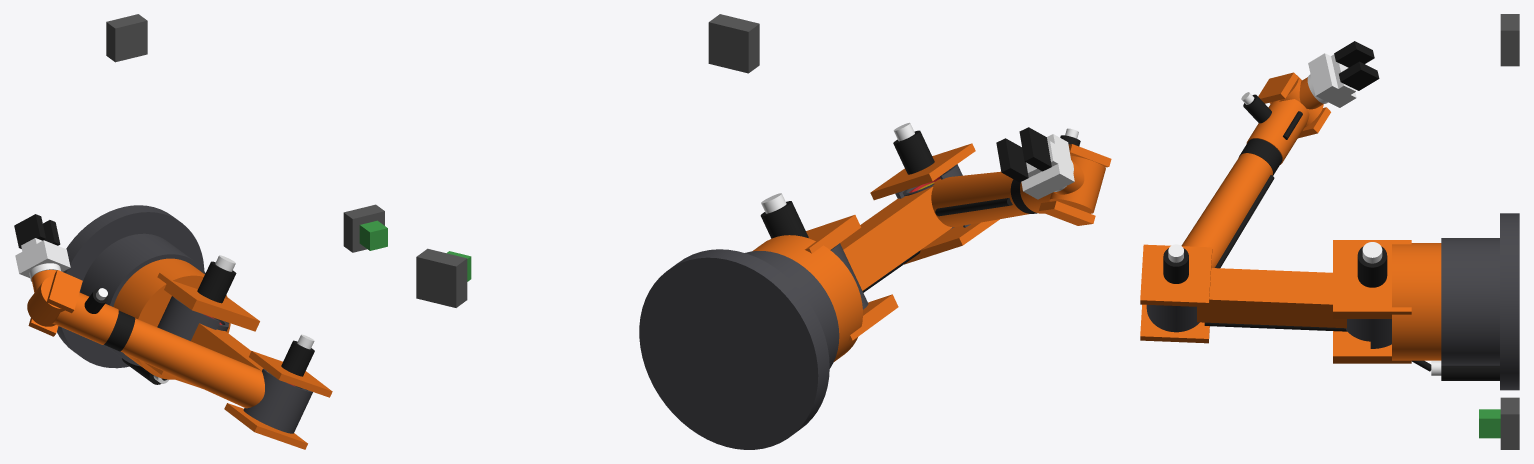
Rendered from robot-arm.glb.
3 renders of one model, left to right at view 1: azimuth 30°, elevation 25°; view 2: azimuth 150°, elevation 25°; view 3: azimuth 270°, elevation 25°, orthographic. The views are drawn at different scales.
Parts seen in each view (by area): view 1: Solid1 (×9), Solid5 (×2), Solid2 (×3), Solid3 (×2), Solid6 (×2), Solid7, Solid4, Solid8; view 2: Solid1 (×6), Solid5 (×2), Solid2 (×5), Solid7, Solid6, Solid3, Solid8, Solid4; view 3: Solid1 (×10), Solid2 (×7), Solid5 (×3), Solid3 (×3), Solid7 (×2), Solid6 (×2), Solid4 (×2), Solid8, Solid10.
Boxes of the visible parts, x1,y1,x2,y2 form: Solid1 (×9): (14,204,387,433); Solid5 (×2): (121,318,268,408); Solid2 (×3): (15,14,205,366); Solid3 (×2): (47,270,259,331); Solid6 (×2): (104,310,307,449); Solid7: (249,351,332,397); Solid4: (197,261,236,303); Solid8: (281,340,314,376); Solid1 (×6): (416,127,1105,449); Solid5 (×2): (840,171,1028,290); Solid2 (×5): (708,14,1095,368); Solid7: (870,143,975,200); Solid6: (904,219,999,264); Solid3: (805,215,860,253); Solid8: (893,130,934,174); Solid4: (760,201,808,238); Solid1 (×10): (1146,41,1519,449); Solid2 (×7): (1298,14,1519,365); Solid5 (×3): (1181,153,1382,328); Solid3 (×3): (1258,72,1499,380); Solid7 (×2): (1140,175,1274,307); Solid6 (×2): (1140,138,1282,343); Solid4 (×2): (1243,94,1387,287); Solid8: (1163,248,1188,283); Solid10: (1204,322,1346,331).
Bounding box in the file's own units: 1.11 × 0.8079 × 0.7729.
